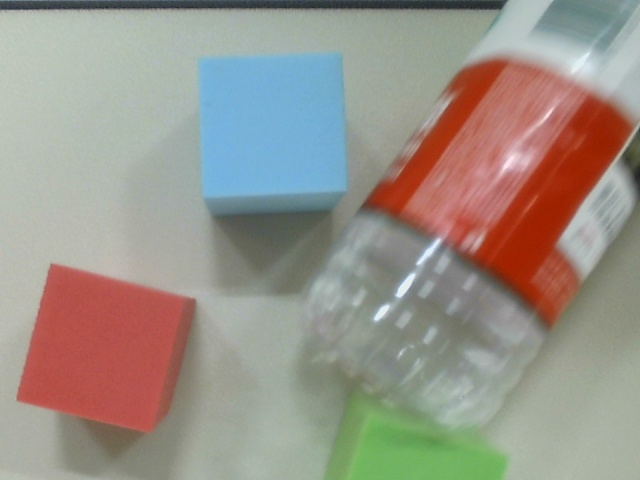greencube: (304, 392, 523, 480)
